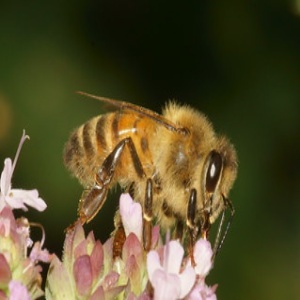bee: (60, 87, 242, 266)
